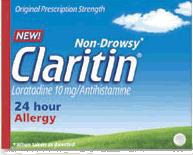grozi_39: (0, 0, 192, 154)
